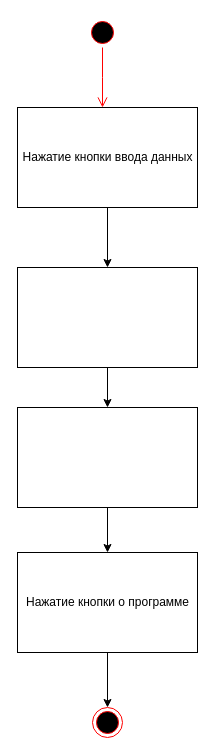
This 215x755 diagram has some shape labels left out. Each missing label, with the centre of its shape:
"Ввод данных" belongs at point 107,317.
"Нажатие кнопки для рассчета" belongs at point 107,457.
